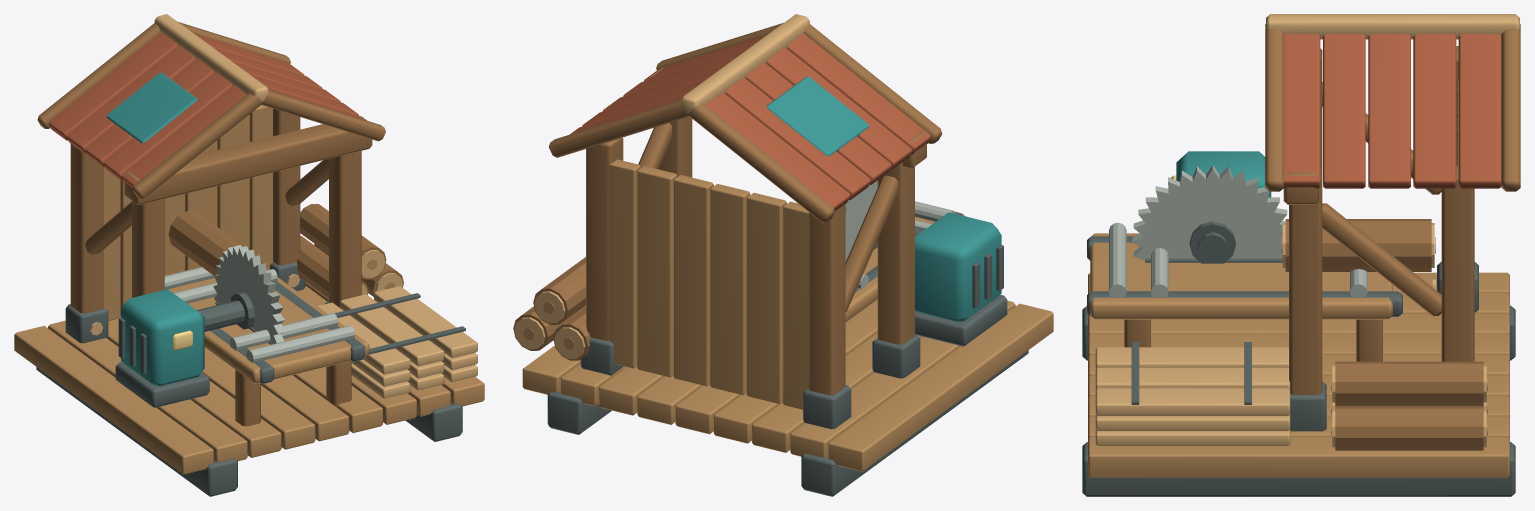
Rendered from sawmill.glb.
The picture shows the model from 3 angles, left to right: view 1: azimuth 30°, elevation 25°; view 2: azimuth 150°, elevation 25°; view 3: azimuth 270°, elevation 25°; orthographic projection. The views are drawn at different scales.
Visible parts, largest first — view 1: Sawmill Honey planks, Sawmill Warm timber, Sawmill Oxide red roof, Sawmill Fresh cut wood, Sawmill Dark iron, Sawmill Salvaged teal panels, Sawmill Saw steel; view 2: Sawmill Honey planks, Sawmill Warm timber, Sawmill Oxide red roof, Sawmill Dark iron, Sawmill Salvaged teal panels, Sawmill Fresh cut wood, Sawmill Saw steel; view 3: Sawmill Warm timber, Sawmill Honey planks, Sawmill Oxide red roof, Sawmill Fresh cut wood, Sawmill Dark iron, Sawmill Saw steel, Sawmill Salvaged teal panels.
Part boxes in pixels (<box>): Sawmill Honey planks: <box>14,105,484,474</box>; Sawmill Warm timber: <box>37,22,403,426</box>; Sawmill Oxide red roof: <box>48,32,367,187</box>; Sawmill Fresh cut wood: <box>90,14,477,398</box>; Sawmill Dark iron: <box>36,262,465,496</box>; Sawmill Salvaged teal panels: <box>106,72,204,385</box>; Sawmill Saw steel: <box>164,245,354,362</box>; Sawmill Honey planks: <box>522,159,1053,471</box>; Sawmill Warm timber: <box>513,23,941,395</box>; Sawmill Oxide red roof: <box>570,33,930,211</box>; Sawmill Dark iron: <box>547,211,1028,496</box>; Sawmill Salvaged teal panels: <box>766,76,1001,321</box>; Sawmill Fresh cut wood: <box>514,14,809,358</box>; Sawmill Saw steel: <box>845,180,955,288</box>; Sawmill Warm timber: <box>1124,24,1520,450</box>; Sawmill Honey planks: <box>1088,80,1509,477</box>; Sawmill Oxide red roof: <box>1284,34,1501,188</box>; Sawmill Fresh cut wood: <box>1095,14,1519,447</box>; Sawmill Dark iron: <box>1082,221,1515,496</box>; Sawmill Saw steel: <box>1109,165,1367,296</box>; Sawmill Salvaged teal panels: <box>1176,151,1271,197</box>.
Bounding box in the file's own units: 2.08 × 2.02 × 1.98.
